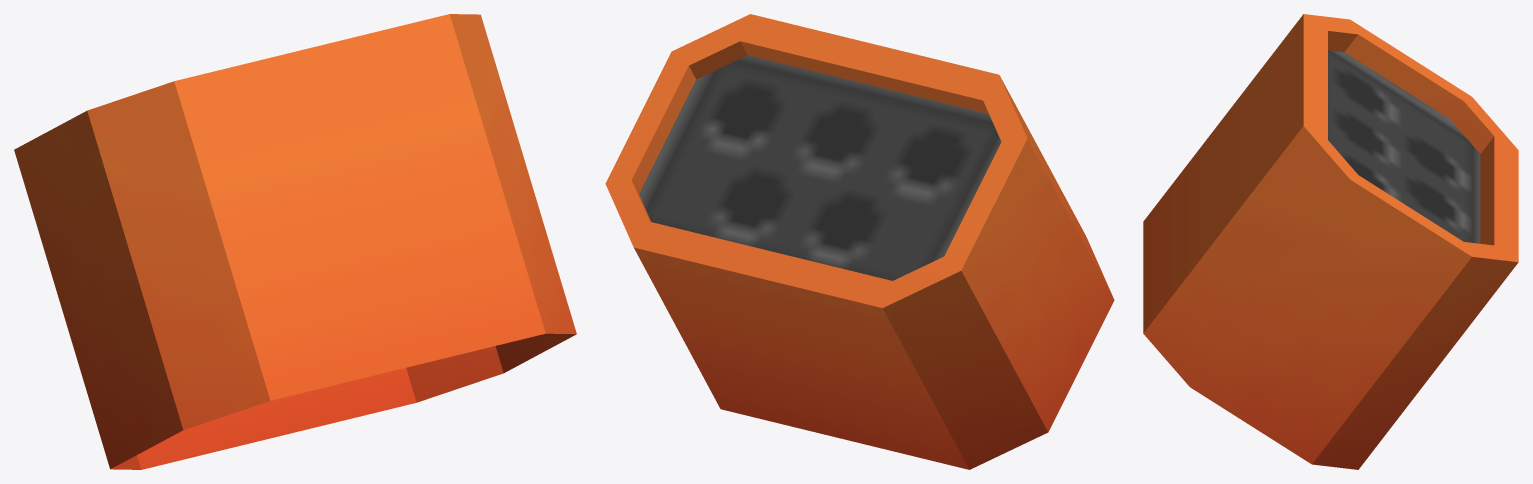
Rendered from RocketLauncher1Enemy6.fbx.
3 renders of one model, left to right at view 1: azimuth 30°, elevation 25°; view 2: azimuth 150°, elevation 25°; view 3: azimuth 270°, elevation 25°, orthographic. The views are drawn at different scales.
Parts seen in each view (by area): view 1: RocketLauncher1Enemy6; view 2: RocketLauncher1Enemy6; view 3: RocketLauncher1Enemy6.
Boxes of the visible parts, x1,y1,x2,y2 form: RocketLauncher1Enemy6: (14,14,576,469); RocketLauncher1Enemy6: (605,14,1114,469); RocketLauncher1Enemy6: (1143,14,1518,469).
Size of the model in its own units: 0.4771 by 0.4813 by 0.4825.
